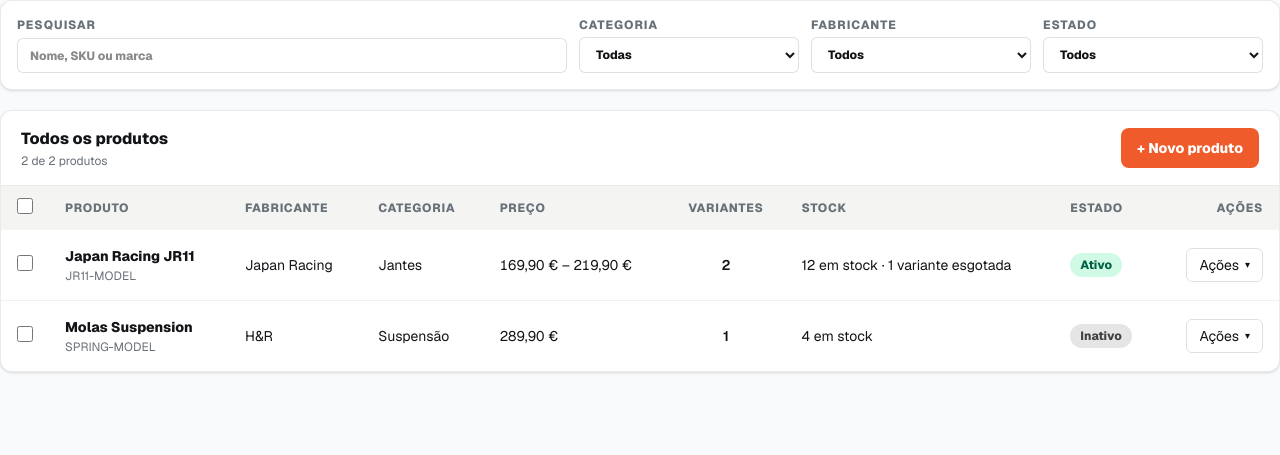
Scenario: ProductsClient › o menu de ações por linha fecha com Escape
This screenshot has width=1280, height=455.
Expected: the heading "Todos os produtos" is shown, [21,127,168,151]
Click the button named "Ações para Japan Racing JR11" at (1225, 265), box [1186,248,1263,282]
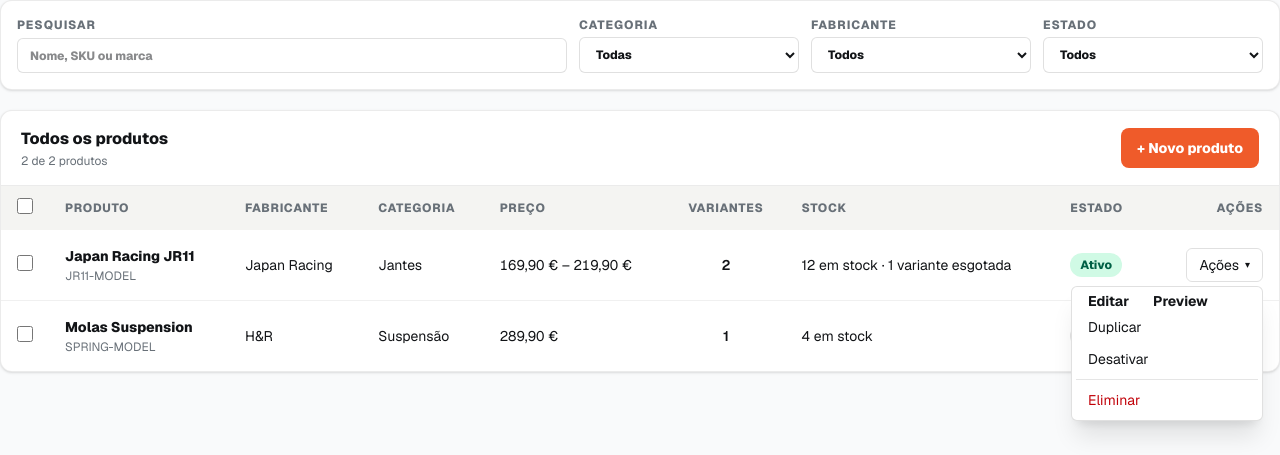
Expected: the menu named "Ações para Japan Racing JR11" is shown, [1071,286,1263,421]
Press Escape
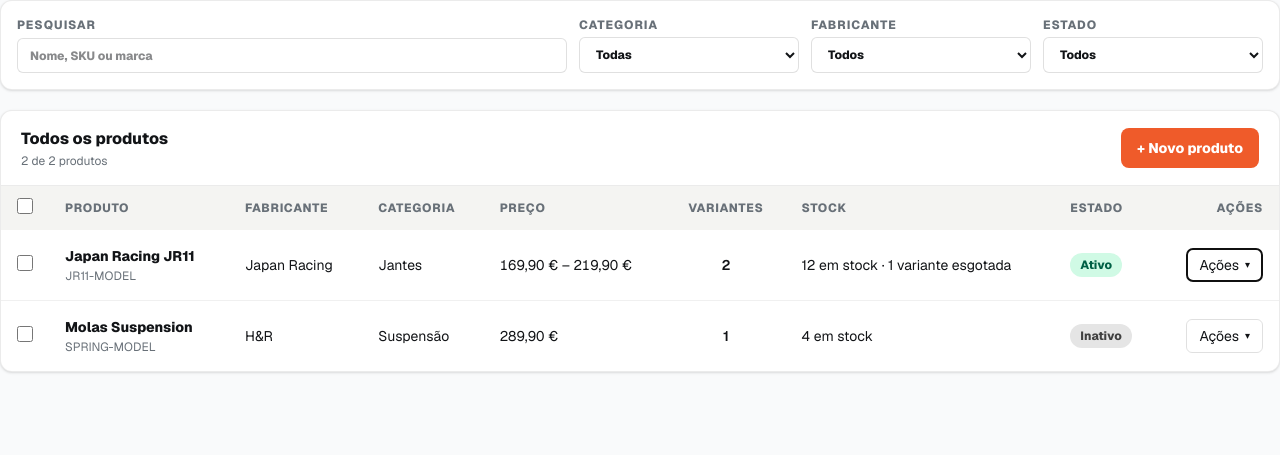
Expected: the menu is gone
